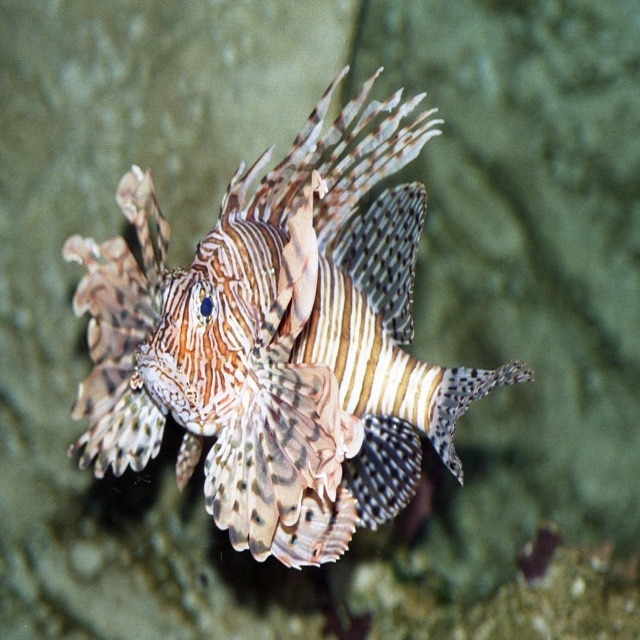Fish: (70, 87, 527, 553)
